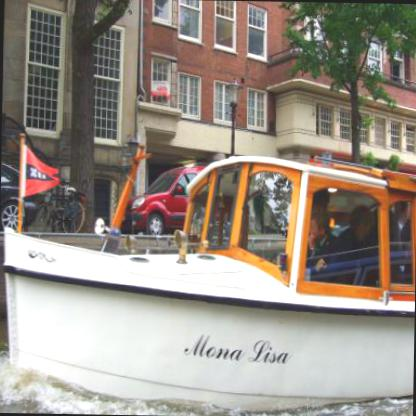car: (0, 160, 41, 232)
